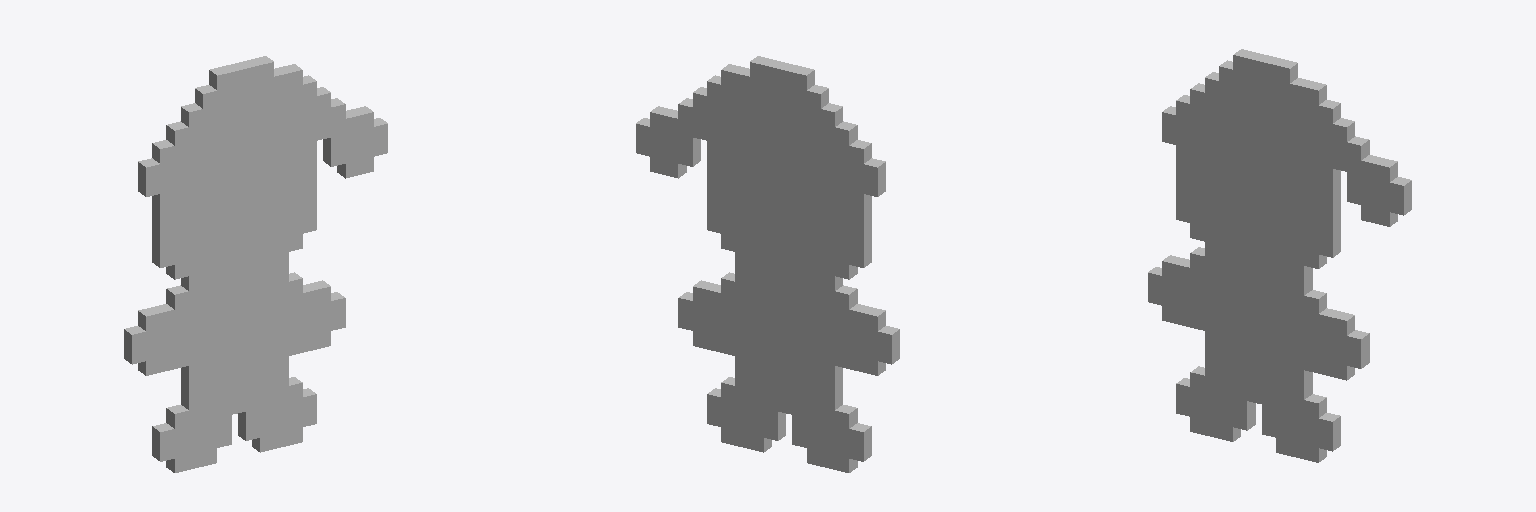
Rendered from elf walk 1.obj.
3 views of the same model, side by side, from view 1: azimuth 30°, elevation 25°; view 2: azimuth 150°, elevation 25°; view 3: azimuth 330°, elevation 25° (orthographic).
Parts seen in each view (by area): view 1: object 1; view 2: object 1; view 3: object 1.
Boxes of the visible parts, x1=… form: object 1: x1=124, y1=56, x2=387, y2=472; object 1: x1=636, y1=56, x2=899, y2=472; object 1: x1=1148, y1=49, x2=1411, y2=462.
Size of the model in its own units: 1.8 by 2.6 by 0.1.